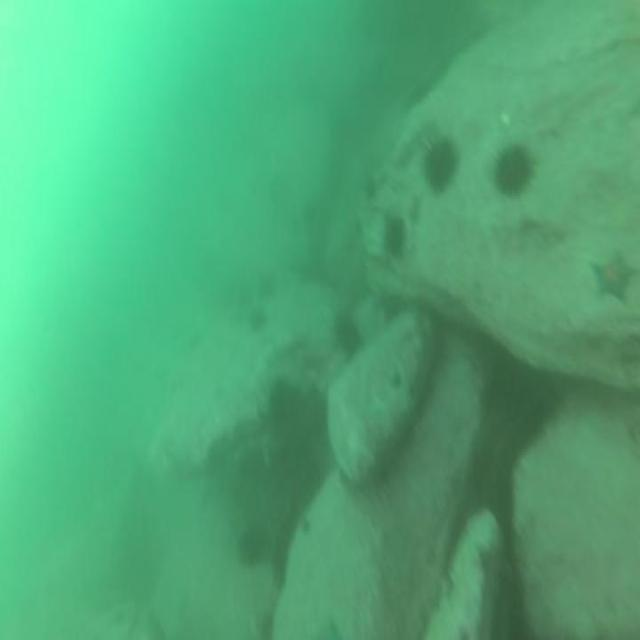echinus: (486, 138, 540, 199), (419, 136, 458, 197), (266, 374, 300, 430), (333, 309, 363, 366), (380, 210, 410, 267), (235, 518, 265, 570), (380, 289, 410, 327), (256, 270, 280, 304), (248, 305, 269, 335)
starfish: (588, 239, 639, 305)
